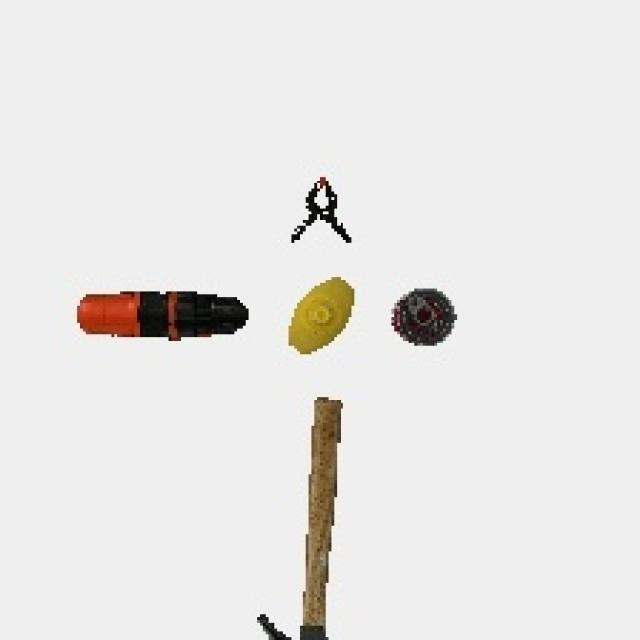MediumClamp: (281, 168, 362, 254)
MustardBottle: (283, 272, 363, 364)
PowerDrill: (71, 284, 252, 358)
TomatoSoupCan: (386, 281, 461, 354)
